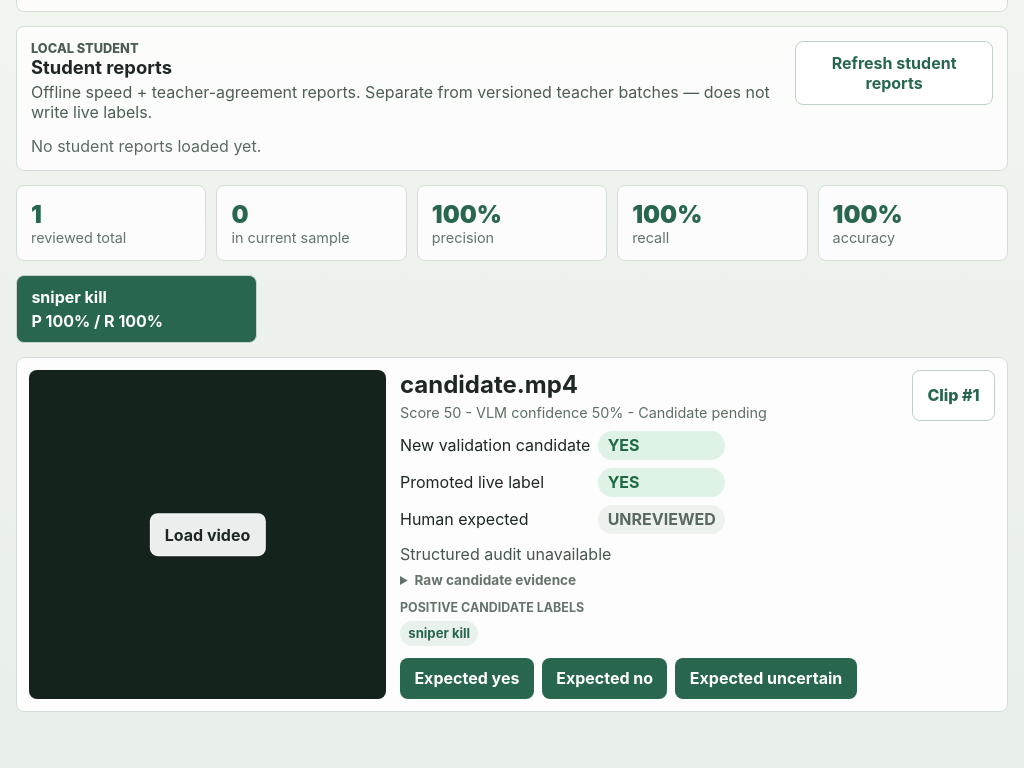
it: EvalDashboard request ordering › ignores a review response after the evaluation mode changes
(page scrolled)
Check: the heading "candidate.mp4" is shown, box [400,370,578,399]
Click the button "Expected yes" at (467, 678), box [400,658,534,699]
(page scrolled)
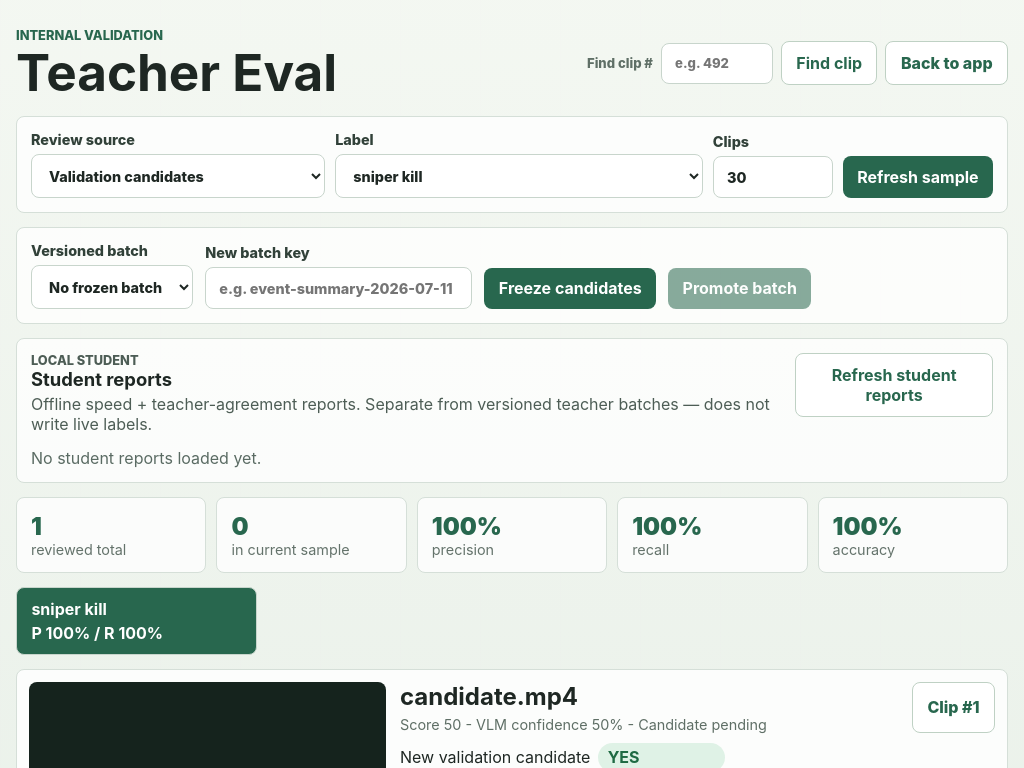
Select "Promoted live labels" in the dropdown labelled "Review source" at (178, 176), box [31,154,325,198]
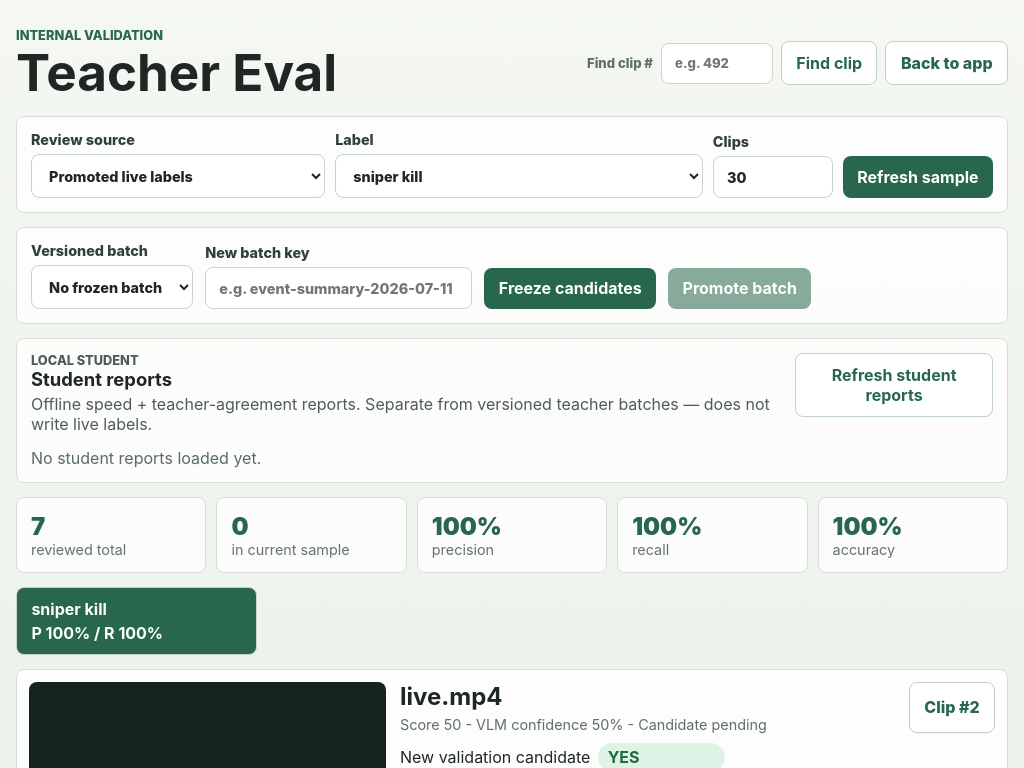
Check: the text "7" is shown, box [31,512,45,541]
Check: the heading "live.mp4" is shown, box [400,682,502,711]
